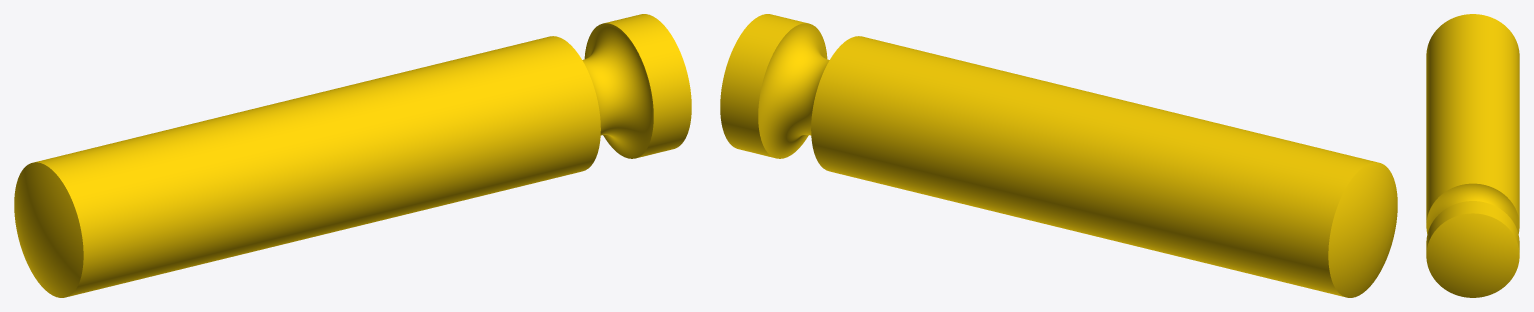
The model's file is LBSpringGroovePin.gltf.
The picture shows the model from 3 angles, left to right: view 1: azimuth 30°, elevation 25°; view 2: azimuth 150°, elevation 25°; view 3: azimuth 270°, elevation 25°; orthographic projection. The views are drawn at different scales.
Visible parts, largest first — view 1: 01-0008; view 2: 01-0008; view 3: 01-0008.
Part boxes in pixels (x1,y1,x2,y2): 01-0008: (14, 14, 691, 297); 01-0008: (720, 14, 1397, 297); 01-0008: (1426, 14, 1519, 297).
Bounding box in the file's own units: 0.0167 × 0.00317 × 0.00317.
